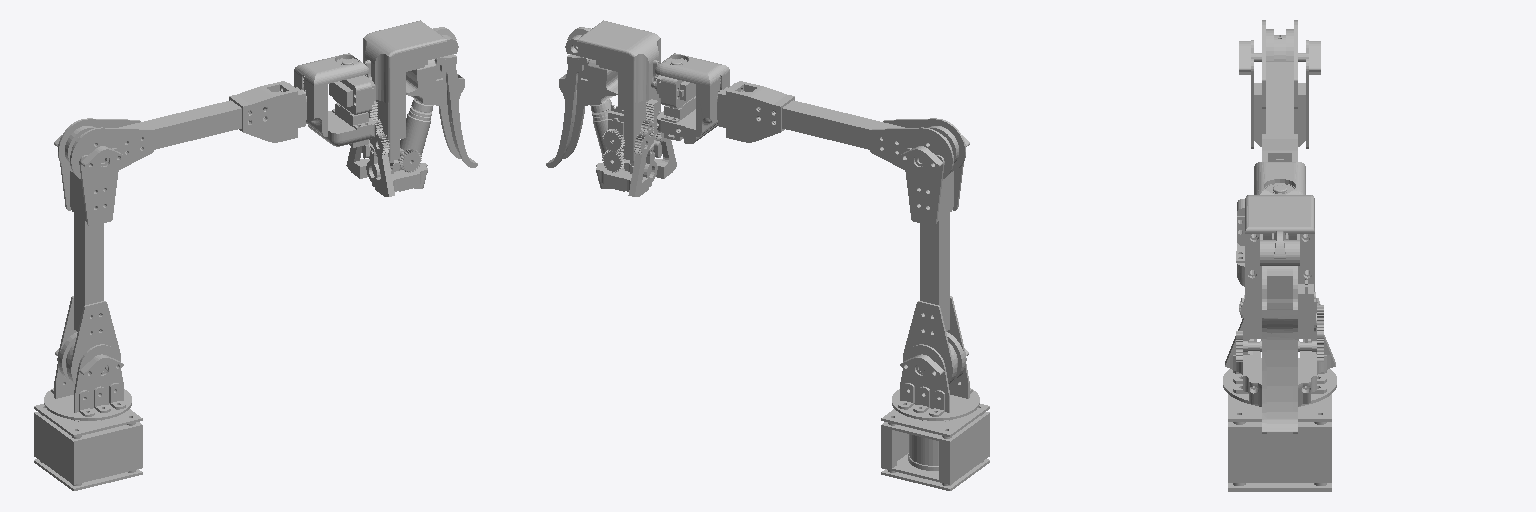
URDF robot description (Phase 2 ALL LINKS):
<?xml version="1.0" encoding="utf-8"?>
<!-- This URDF was automatically created by SolidWorks to URDF Exporter! Originally created by [author] ([email redacted]) 
     Commit Version: 1.6.0-4-g7f85cfe  Build Version: 1.6.7995.38578
     For more information, please see http://wiki.ros.org/sw_urdf_exporter -->
<robot
  name="Phase 2 ALL LINKS">
  <link
    name="base_link">
    <inertial>
      <origin
        xyz="-2.3158E-07 -0.0066564 0.035"
        rpy="0 0 0" />
      <mass
        value="1.3468" />
      <inertia
        ixx="0.001167"
        ixy="1.0458E-11"
        ixz="-1.3577E-14"
        iyy="0.001545"
        iyz="-3.1447E-14"
        izz="0.0023418" />
    </inertial>
    <visual>
      <origin
        xyz="0 0 0"
        rpy="0 0 0" />
      <geometry>
        <mesh
          filename="package://Phase 2 ALL LINKS/meshes/base_link.STL" />
      </geometry>
      <material
        name="">
        <color
          rgba="0.75294 0.75294 0.75294 1" />
      </material>
    </visual>
    <collision>
      <origin
        xyz="0 0 0"
        rpy="0 0 0" />
      <geometry>
        <mesh
          filename="package://Phase 2 ALL LINKS/meshes/base_link.STL" />
      </geometry>
    </collision>
  </link>
  <link
    name="Link 1 -  Purple">
    <inertial>
      <origin
        xyz="0.00046301 2.9701E-08 0.073559"
        rpy="0 0 0" />
      <mass
        value="0.3271" />
      <inertia
        ixx="0.00012213"
        ixy="-1.5392E-11"
        ixz="4.8687E-09"
        iyy="0.00013427"
        iyz="-6.6384E-11"
        izz="0.00011641" />
    </inertial>
    <visual>
      <origin
        xyz="0 0 0"
        rpy="0 0 0" />
      <geometry>
        <mesh
          filename="package://Phase 2 ALL LINKS/meshes/Link 1 -  Purple.STL" />
      </geometry>
      <material
        name="">
        <color
          rgba="0.75294 0.75294 0.75294 1" />
      </material>
    </visual>
    <collision>
      <origin
        xyz="0 0 0"
        rpy="0 0 0" />
      <geometry>
        <mesh
          filename="package://Phase 2 ALL LINKS/meshes/Link 1 -  Purple.STL" />
      </geometry>
    </collision>
  </link>
  <joint
    name="J1"
    type="revolute">
    <origin
      xyz="0 0 0.0025"
      rpy="0 0 0" />
    <parent
      link="base_link" />
    <child
      link="Link 1 -  Purple" />
    <axis
      xyz="0 0 1" />
    <limit
      lower="3.14"
      upper="-3.14"
      effort="10"
      velocity="100" />
  </joint>
  <link
    name="Link 2 - Orange ">
    <inertial>
      <origin
        xyz="1.5151E-05 0.11766 2.5215E-08"
        rpy="0 0 0" />
      <mass
        value="0.52509" />
      <inertia
        ixx="0.00097461"
        ixy="-8.5659E-09"
        ixz="-3.1016E-11"
        iyy="0.00010143"
        iyz="3.7769E-11"
        izz="0.0010037" />
    </inertial>
    <visual>
      <origin
        xyz="0 0 0"
        rpy="0 0 0" />
      <geometry>
        <mesh
          filename="package://Phase 2 ALL LINKS/meshes/Link 2 - Orange .STL" />
      </geometry>
      <material
        name="">
        <color
          rgba="0.75294 0.75294 0.75294 1" />
      </material>
    </visual>
    <collision>
      <origin
        xyz="0 0 0"
        rpy="0 0 0" />
      <geometry>
        <mesh
          filename="package://Phase 2 ALL LINKS/meshes/Link 2 - Orange .STL" />
      </geometry>
    </collision>
  </link>
  <joint
    name="J2"
    type="revolute">
    <origin
      xyz="0.0013777 0 0.133"
      rpy="1.5708 0 0" />
    <parent
      link="Link 1 -  Purple" />
    <child
      link="Link 2 - Orange " />
    <axis
      xyz="0 0 -1" />
    <limit
      lower="3.14"
      upper="-3.14"
      effort="10"
      velocity="100" />
  </joint>
  <link
    name="Link 3 - Pink ">
    <inertial>
      <origin
        xyz="0.0065159 0.17422 4.1508E-09"
        rpy="0 0 0" />
      <mass
        value="0.90189" />
      <inertia
        ixx="0.0011587"
        ixy="-1.3066E-05"
        ixz="1.2482E-13"
        iyy="0.00027951"
        iyz="2.4698E-12"
        izz="0.0012549" />
    </inertial>
    <visual>
      <origin
        xyz="0 0 0"
        rpy="0 0 0" />
      <geometry>
        <mesh
          filename="package://Phase 2 ALL LINKS/meshes/Link 3 - Pink .STL" />
      </geometry>
      <material
        name="">
        <color
          rgba="0.75294 0.75294 0.75294 1" />
      </material>
    </visual>
    <collision>
      <origin
        xyz="0 0 0"
        rpy="0 0 0" />
      <geometry>
        <mesh
          filename="package://Phase 2 ALL LINKS/meshes/Link 3 - Pink .STL" />
      </geometry>
    </collision>
  </link>
  <joint
    name="J3"
    type="revolute">
    <origin
      xyz="0.00014239 0.26004 0"
      rpy="0 0 -1.5708" />
    <parent
      link="Link 2 - Orange " />
    <child
      link="Link 3 - Pink " />
    <axis
      xyz="0 0 -1" />
    <limit
      lower="3.14"
      upper="-3.14"
      effort="10"
      velocity="100" />
  </joint>
  <link
    name="Link 4 - Green">
    <inertial>
      <origin
        xyz="0.027427 -0.0072642 -0.0088925"
        rpy="0 0 0" />
      <mass
        value="0.42106" />
      <inertia
        ixx="0.00012527"
        ixy="1.6054E-05"
        ixz="-1.8828E-05"
        iyy="0.0002039"
        iyz="9.122E-06"
        izz="0.00021331" />
    </inertial>
    <visual>
      <origin
        xyz="0 0 0"
        rpy="0 0 0" />
      <geometry>
        <mesh
          filename="package://Phase 2 ALL LINKS/meshes/Link 4 - Green.STL" />
      </geometry>
      <material
        name="">
        <color
          rgba="0.75294 0.75294 0.75294 1" />
      </material>
    </visual>
    <collision>
      <origin
        xyz="0 0 0"
        rpy="0 0 0" />
      <geometry>
        <mesh
          filename="package://Phase 2 ALL LINKS/meshes/Link 4 - Green.STL" />
      </geometry>
    </collision>
  </link>
  <joint
    name="J4"
    type="revolute">
    <origin
      xyz="0 0.33608 0"
      rpy="-1.5708 0 0" />
    <parent
      link="Link 3 - Pink " />
    <child
      link="Link 4 - Green" />
    <axis
      xyz="0 0 -1" />
    <limit
      lower="3.14"
      upper="-3.14"
      effort="10"
      velocity="100" />
  </joint>
  <link
    name="Link 5 - Yellow ">
    <inertial>
      <origin
        xyz="0.0080411 0.00098636 0.0043369"
        rpy="0 0 0" />
      <mass
        value="0.083993" />
      <inertia
        ixx="1.199E-05"
        ixy="6.5403E-08"
        ixz="4.8836E-08"
        iyy="2.022E-05"
        iyz="4.7655E-09"
        izz="2.1062E-05" />
    </inertial>
    <visual>
      <origin
        xyz="0 0 0"
        rpy="0 0 0" />
      <geometry>
        <mesh
          filename="package://Phase 2 ALL LINKS/meshes/Link 5 - Yellow .STL" />
      </geometry>
      <material
        name="">
        <color
          rgba="0.75294 0.75294 0.75294 1" />
      </material>
    </visual>
    <collision>
      <origin
        xyz="0 0 0"
        rpy="0 0 0" />
      <geometry>
        <mesh
          filename="package://Phase 2 ALL LINKS/meshes/Link 5 - Yellow .STL" />
      </geometry>
    </collision>
  </link>
  <joint
    name="J5"
    type="revolute">
    <origin
      xyz="0 0 0"
      rpy="1.5708 0 -1.5708" />
    <parent
      link="Link 4 - Green" />
    <child
      link="Link 5 - Yellow " />
    <axis
      xyz="0 0 -1" />
    <limit
      lower="3.14"
      upper="-3.14"
      effort="10"
      velocity="100" />
  </joint>
  <link
    name="Link 6 - Magenta">
    <inertial>
      <origin
        xyz="0.034393 0.00061009 0.078958"
        rpy="0 0 0" />
      <mass
        value="0.97068" />
      <inertia
        ixx="0.00029072"
        ixy="-8.9988E-08"
        ixz="6.3805E-05"
        iyy="0.00057947"
        iyz="3.91E-08"
        izz="0.00052921" />
    </inertial>
    <visual>
      <origin
        xyz="0 0 0"
        rpy="0 0 0" />
      <geometry>
        <mesh
          filename="package://Phase 2 ALL LINKS/meshes/Link 6 - Magenta.STL" />
      </geometry>
      <material
        name="">
        <color
          rgba="0.75294 0.75294 0.75294 1" />
      </material>
    </visual>
    <collision>
      <origin
        xyz="0 0 0"
        rpy="0 0 0" />
      <geometry>
        <mesh
          filename="package://Phase 2 ALL LINKS/meshes/Link 6 - Magenta.STL" />
      </geometry>
    </collision>
  </link>
  <joint
    name="J6"
    type="revolute">
    <origin
      xyz="0 0 0"
      rpy="-1.5708 1.5708 0" />
    <parent
      link="Link 5 - Yellow " />
    <child
      link="Link 6 - Magenta" />
    <axis
      xyz="0 0 -1" />
    <limit
      lower="3.14"
      upper="-3.14"
      effort="10"
      velocity="100" />
  </joint>
</robot>

--- What the picture shows (computed from the rendered views, not written in the file) ---
3 views of the same robot in one strip: view 1: azimuth 30°, elevation 25°; view 2: azimuth 150°, elevation 25°; view 3: azimuth 270°, elevation 25° (orthographic).
Robot: Phase 2 ALL LINKS — 7 links, 6 joints (6 revolute); root link base_link; default pose: every joint at zero.
Visible links, largest first — view 1: Link 6 - Magenta, Link 3 - Pink, Link 2 - Orange, base_link, Link 1 -  Purple, Link 4 - Green, Link 5 - Yellow; view 2: Link 6 - Magenta, Link 3 - Pink, Link 2 - Orange, base_link, Link 1 -  Purple, Link 4 - Green, Link 5 - Yellow; view 3: Link 6 - Magenta, base_link, Link 3 - Pink, Link 2 - Orange, Link 4 - Green, Link 1 -  Purple.
Link boxes in pixels (x1,y1,x2,y2): Link 6 - Magenta: (346, 20, 477, 196); Link 3 - Pink: (58, 81, 306, 178); Link 2 - Orange: (54, 135, 124, 383); base_link: (34, 404, 142, 490); Link 1 -  Purple: (44, 344, 131, 420); Link 4 - Green: (294, 53, 374, 147); Link 5 - Yellow: (329, 59, 375, 114); Link 6 - Magenta: (546, 20, 676, 196); Link 3 - Pink: (717, 81, 965, 178); Link 2 - Orange: (899, 135, 969, 383); base_link: (881, 404, 989, 490); Link 1 -  Purple: (892, 344, 979, 465); Link 4 - Green: (655, 53, 729, 143); Link 5 - Yellow: (655, 59, 695, 108); Link 6 - Magenta: (1225, 195, 1335, 433); base_link: (1228, 394, 1331, 491); Link 3 - Pink: (1251, 20, 1308, 161); Link 2 - Orange: (1239, 40, 1320, 148); Link 4 - Green: (1236, 162, 1305, 286); Link 1 -  Purple: (1223, 318, 1336, 405).
Size in the robot's own frame: 0.549 by 0.0999 by 0.4414 metres.
7 mesh visuals loaded from 7 distinct referenced files (7 binary STL).